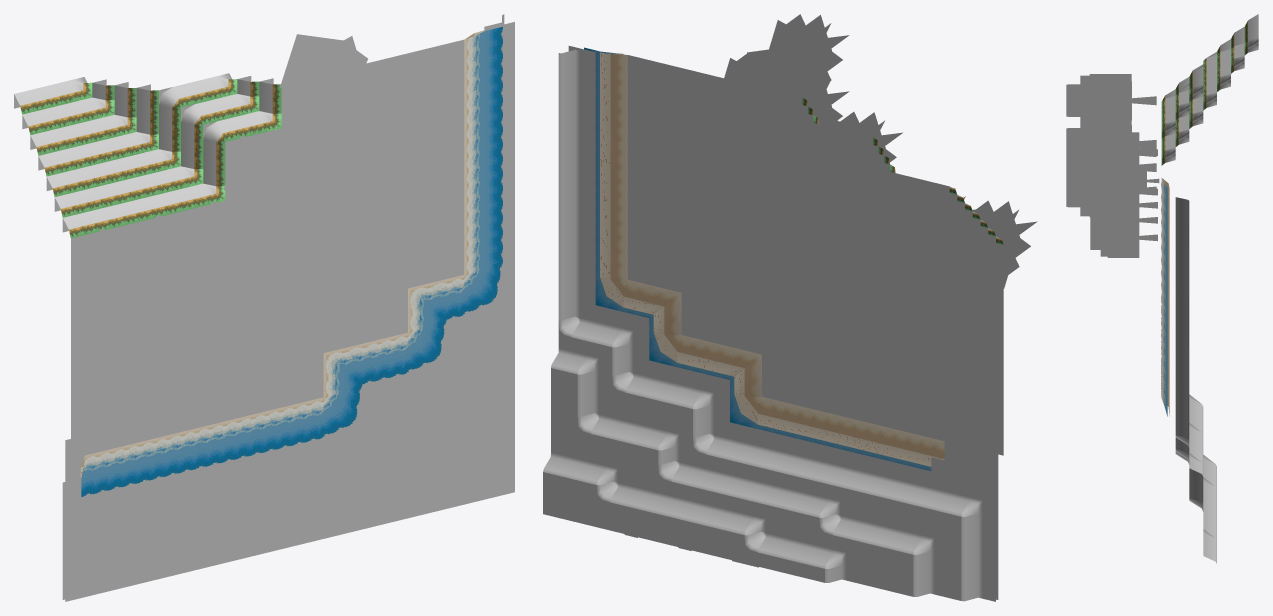
The model's file is Asteria_35_35.obj.
3 views of the same model, side by side, from view 1: azimuth 30°, elevation 25°; view 2: azimuth 150°, elevation 25°; view 3: azimuth 270°, elevation 25° (orthographic). The views are drawn at different scales.
Parts seen in each view (by area): view 1: map; view 2: map; view 3: map.
Boxes of the visible parts, x1,y1,x2,y2 form: map: (14,14,514,601); map: (543,14,1037,601); map: (1066,14,1258,563).
Bounding box in the file's own units: 32 × 35.74 × 13.89.
